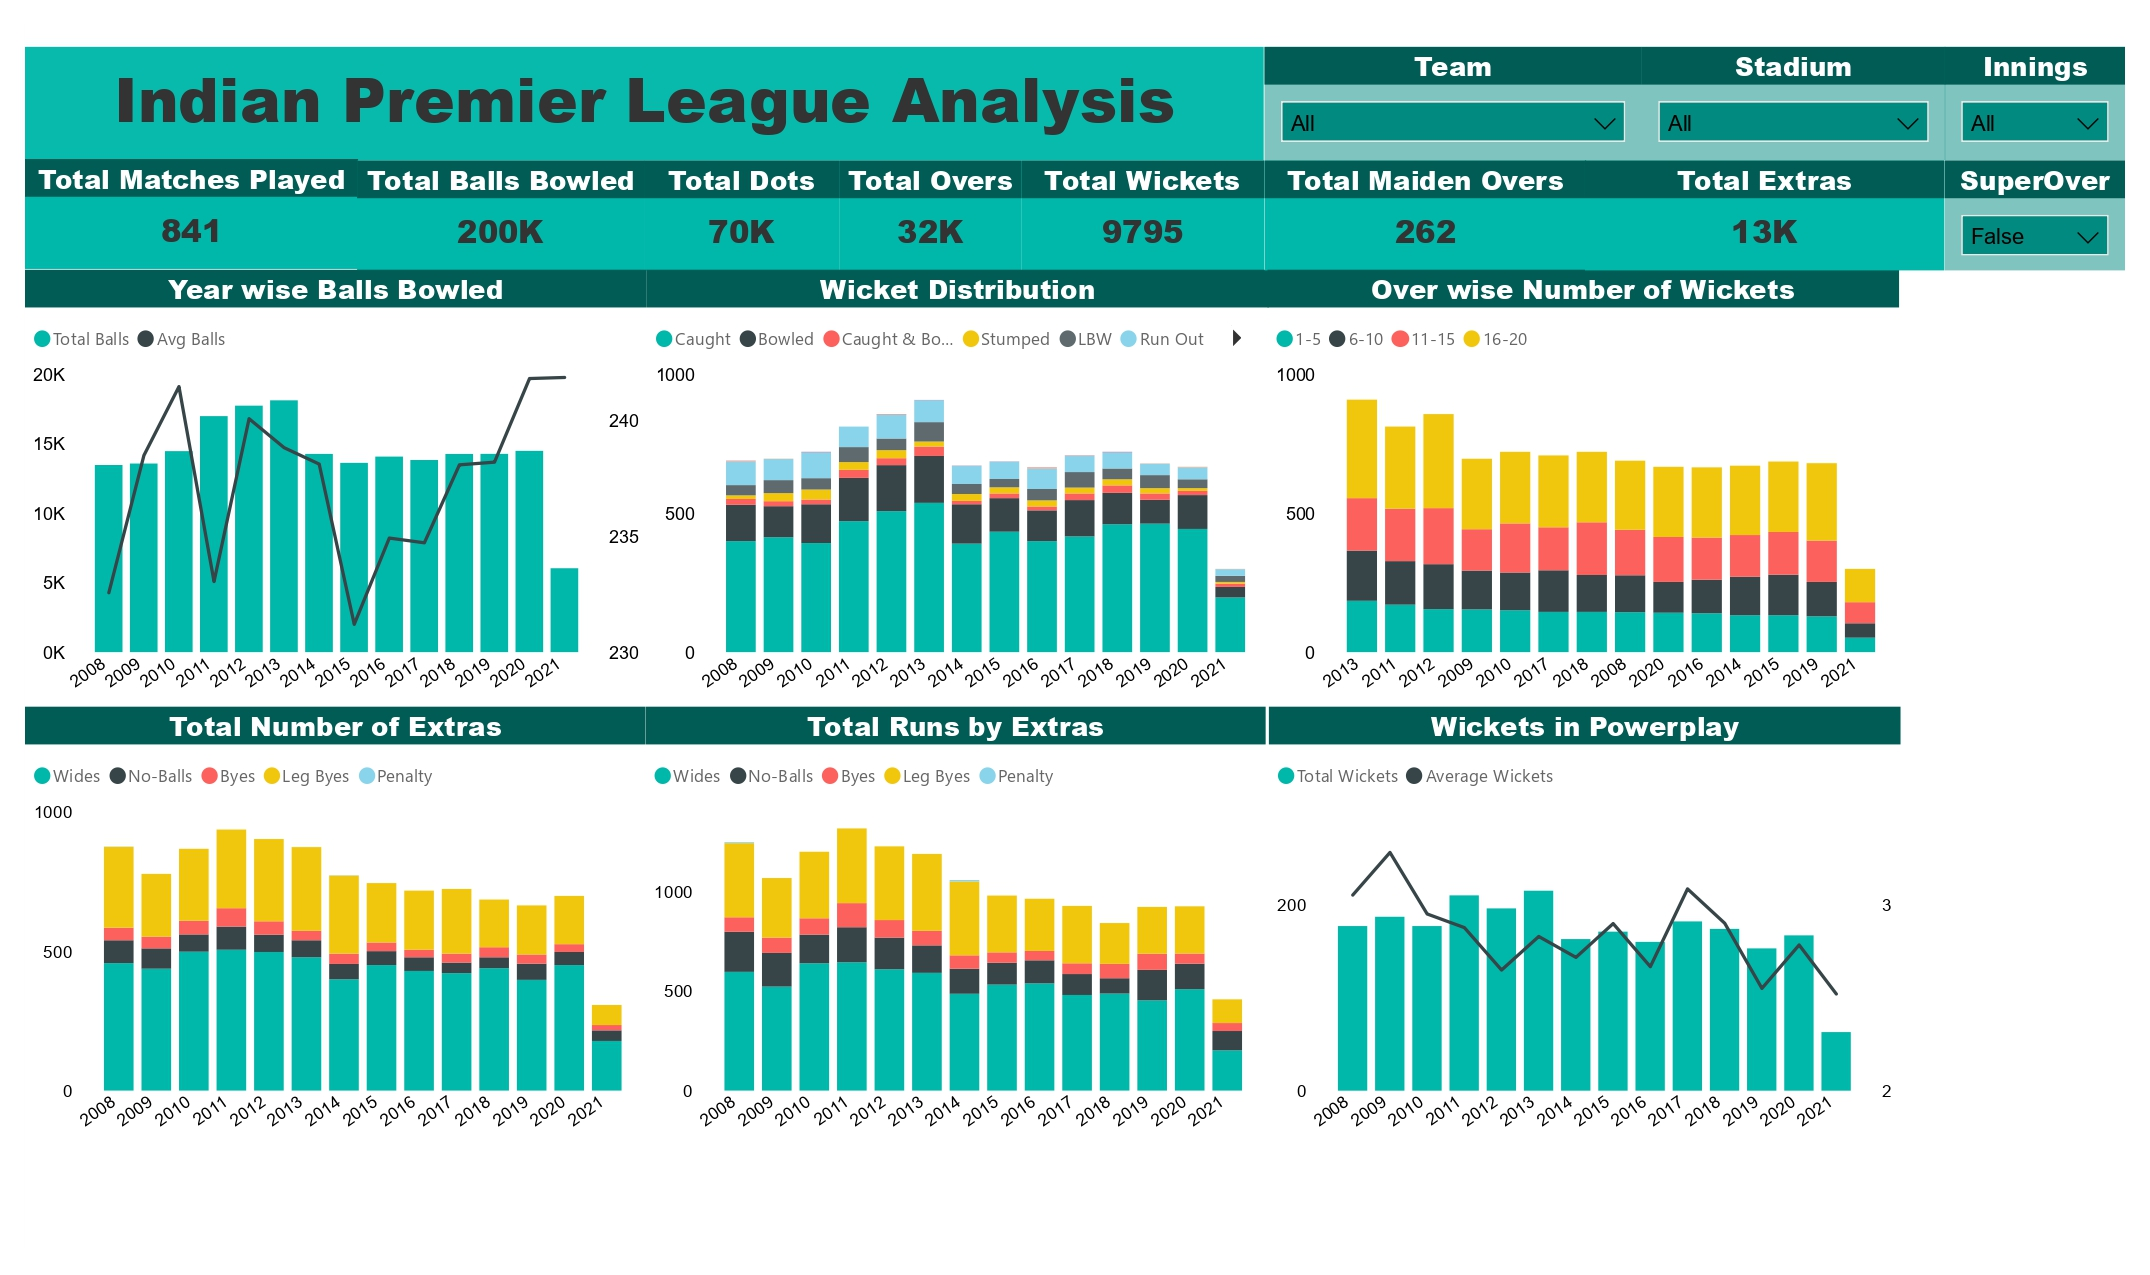

The dashboard page shown, as its layout file describes it:
{"tool":"powerbi","page":{"name":"Bowling Analysis","canvas":[1280,720],"ordinal":2},"visuals":[{"type":"textbox","box":[0,0,755.1,68.6],"z":0},{"type":"slicer","title":"Team","fields":{"Values":["Teams Info.Teams"]},"box":[755.1,0,229.9,69],"z":1000},{"type":"slicer","title":"Stadium","fields":{"Values":["Match Info.Venue"]},"box":[985,0,185.1,69],"z":2000},{"type":"card","title":"Total Matches Played","fields":{"Values":["Ball by Ball Info.Total Matches Played"]},"box":[0,68.6,202.7,67.1],"z":3000},{"type":"card","title":"Total Wickets","fields":{"Values":["Ball by Ball Info.Total Wickets"]},"box":[607.5,69,147.6,66.6],"z":4000},{"type":"card","title":"Total Balls Bowled","fields":{"Values":["Ball by Ball Info.Total Balls"]},"box":[202.1,69,175.5,66.6],"z":5000},{"type":"card","title":"Total Dots","fields":{"Values":["Ball by Ball Info.Total Dots"]},"box":[377.5,69,118.6,66.6],"z":6000},{"type":"card","title":"Total Overs","fields":{"Values":["Ball by Ball Info.Total Overs"]},"box":[496.1,69,111.3,66.6],"z":7000},{"type":"columnChart","title":"Wicket Distribution","fields":{"Category":["Match Info.Year"],"Y":["Ball by Ball Info.Total Catches","Ball by Ball Info.Total Bowled","Ball by Ball Info.Total C&B","Ball by Ball Info.Total Stumped","Ball by Ball Info.Total LBW","Ball by Ball Info.Total Run Out","Ball by Ball Info.Total Hit Wicket","Ball by Ball Info.Total Retired Hurt"]},"box":[378.8,135.5,378.8,266.2],"z":8000},{"type":"lineClusteredColumnComboChart","title":"Year wise Balls Bowled","fields":{"Category":["Match Info.Year"],"Y":["Ball by Ball Info.Total Balls"],"Y2":["Ball by Ball Info.Avg Balls"]},"box":[0,135.5,378.8,266.2],"z":9000},{"type":"columnChart","title":"Total Number of Extras","fields":{"Category":["Match Info.Year"],"Y":["Ball by Ball Info.Total Wides","Ball by Ball Info.Total No-Balls","Ball by Ball Info.Total Byes","Ball by Ball Info.Total Leg Byes","Ball by Ball Info.Total Penalty"]},"box":[0,402.3,378.4,266.6],"z":10000},{"type":"columnChart","title":"Total Runs by Extras","fields":{"Category":["Match Info.Year"],"Y":["Ball by Ball Info.Total WideRuns","Ball by Ball Info.Total No-BallsRuns","Ball by Ball Info.Total ByesRuns","Ball by Ball Info.Total Leg ByesRuns","Ball by Ball Info.Total PenaltyRuns"]},"box":[378.4,402.3,378.4,266.6],"z":11000},{"type":"card","title":"Total Maiden Overs","fields":{"Values":["Ball by Ball Info.Total Maidens"]},"box":[755.1,69,196,66.6],"z":12000},{"type":"columnChart","title":"Over wise Number of Wickets","fields":{"Category":["Match Info.Year"],"Y":["Ball by Ball Info.Over5Wicket","Ball by Ball Info.Over10Wicket","Ball by Ball Info.Over15Wicket","Ball by Ball Info.Over20Wicket"]},"box":[757.5,135.5,384.8,266.2],"z":13000},{"type":"lineClusteredColumnComboChart","title":"Wickets in Powerplay","fields":{"Category":["Match Info.Year"],"Y":["Ball by Ball Info.TotalPowerPlayWickets"],"Y2":["Ball by Ball Info.AvgPowerPlayWickets"]},"box":[758,402,385,267],"z":14000},{"type":"slicer","title":"Innings","fields":{"Values":["Ball by Ball Info.Innings2"]},"box":[1170.2,0,110.1,69],"z":15000},{"type":"slicer","title":"SuperOver","fields":{"Values":["Ball by Ball Info.SuperOver"]},"box":[1170.2,69,110.1,66.6],"z":16000},{"type":"card","title":"Total Extras","fields":{"Values":["Ball by Ball Info.Total Extras2"]},"box":[951.1,69,219,66.6],"z":17000}]}

Visuals, with their boxes on the page's 1280x720 design canvas (x1, y1, x2, y2). These are canvas units, not pixel positions in the 2150x1275 screenshot, which may show the page scaled, cropped or inside an application window:
textbox: [left=0, top=0, right=755, bottom=69]
"Team" slicer: [left=755, top=0, right=985, bottom=69]
"Stadium" slicer: [left=985, top=0, right=1170, bottom=69]
"Total Matches Played" card: [left=0, top=69, right=203, bottom=136]
"Total Wickets" card: [left=608, top=69, right=755, bottom=136]
"Total Balls Bowled" card: [left=202, top=69, right=378, bottom=136]
"Total Dots" card: [left=378, top=69, right=496, bottom=136]
"Total Overs" card: [left=496, top=69, right=607, bottom=136]
"Wicket Distribution" columnChart: [left=379, top=136, right=758, bottom=402]
"Year wise Balls Bowled" lineClusteredColumnComboChart: [left=0, top=136, right=379, bottom=402]
"Total Number of Extras" columnChart: [left=0, top=402, right=378, bottom=669]
"Total Runs by Extras" columnChart: [left=378, top=402, right=757, bottom=669]
"Total Maiden Overs" card: [left=755, top=69, right=951, bottom=136]
"Over wise Number of Wickets" columnChart: [left=758, top=136, right=1142, bottom=402]
"Wickets in Powerplay" lineClusteredColumnComboChart: [left=758, top=402, right=1143, bottom=669]
"Innings" slicer: [left=1170, top=0, right=1280, bottom=69]
"SuperOver" slicer: [left=1170, top=69, right=1280, bottom=136]
"Total Extras" card: [left=951, top=69, right=1170, bottom=136]
